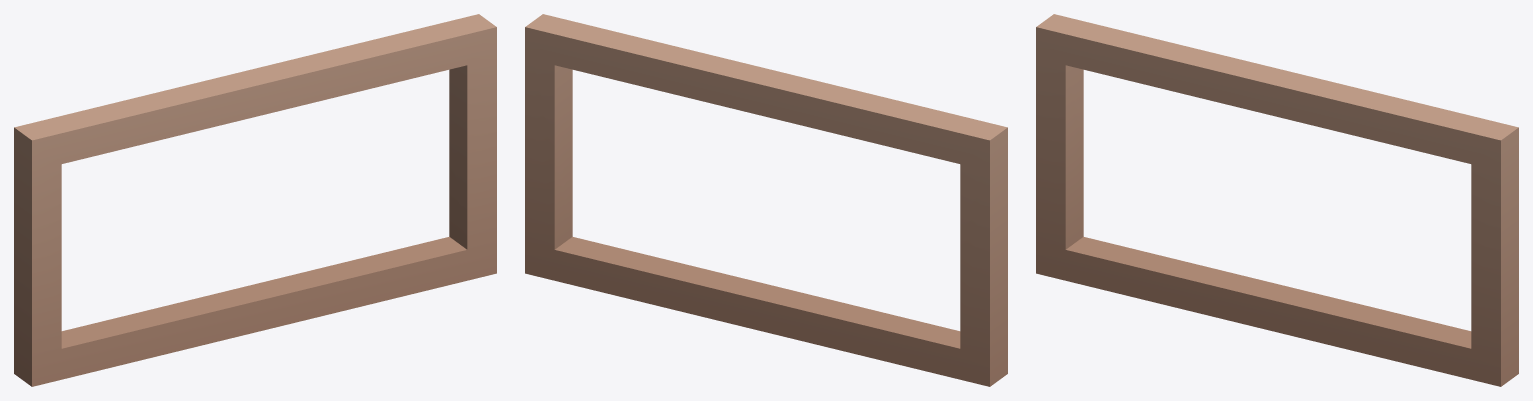
File: window-brown-wide.glb
3 views of the same model, side by side, from view 1: azimuth 30°, elevation 25°; view 2: azimuth 150°, elevation 25°; view 3: azimuth 330°, elevation 25° (orthographic).
Visible parts, largest first — view 1: window-brown-wide; view 2: window-brown-wide; view 3: window-brown-wide.
Boxes of the visible parts, box(x1,y1,x2,y2) form: window-brown-wide: box(14, 14, 496, 386); window-brown-wide: box(525, 14, 1007, 386); window-brown-wide: box(1036, 14, 1518, 386).
Size of the model in its own units: 0.75 by 0.38 by 0.05.
